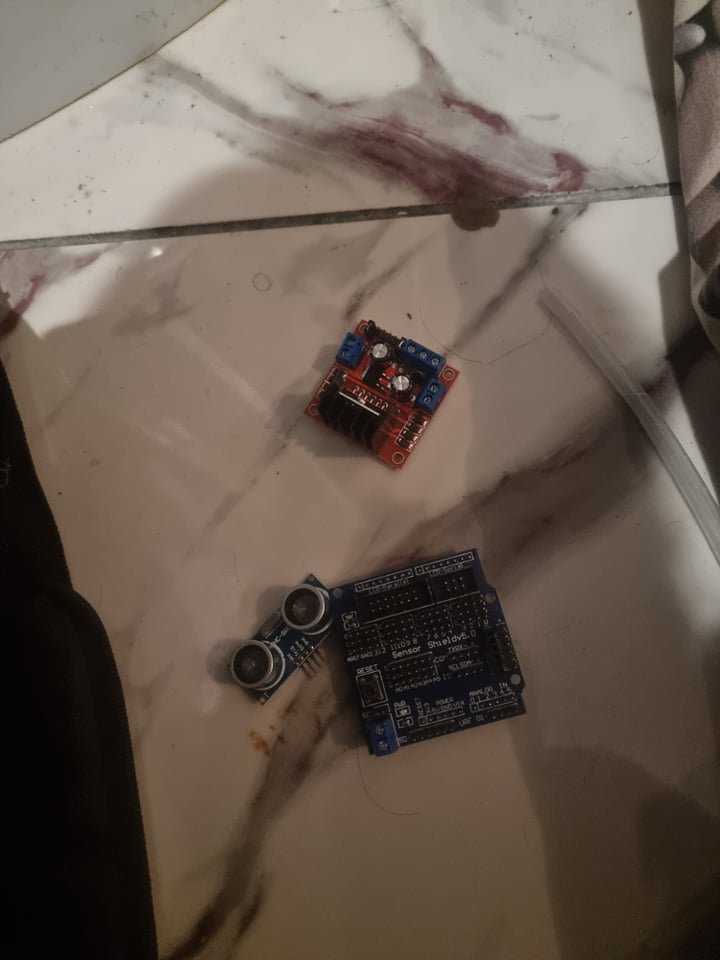5V EXPANSION: (333, 547, 530, 758)
MOTOR: (300, 320, 458, 476)
SENSOR: (227, 569, 327, 703)
